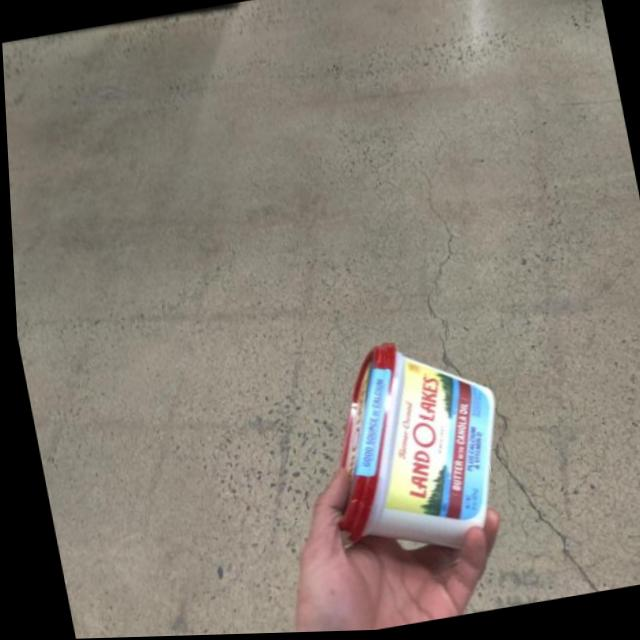Butter: (283, 319, 526, 573)
